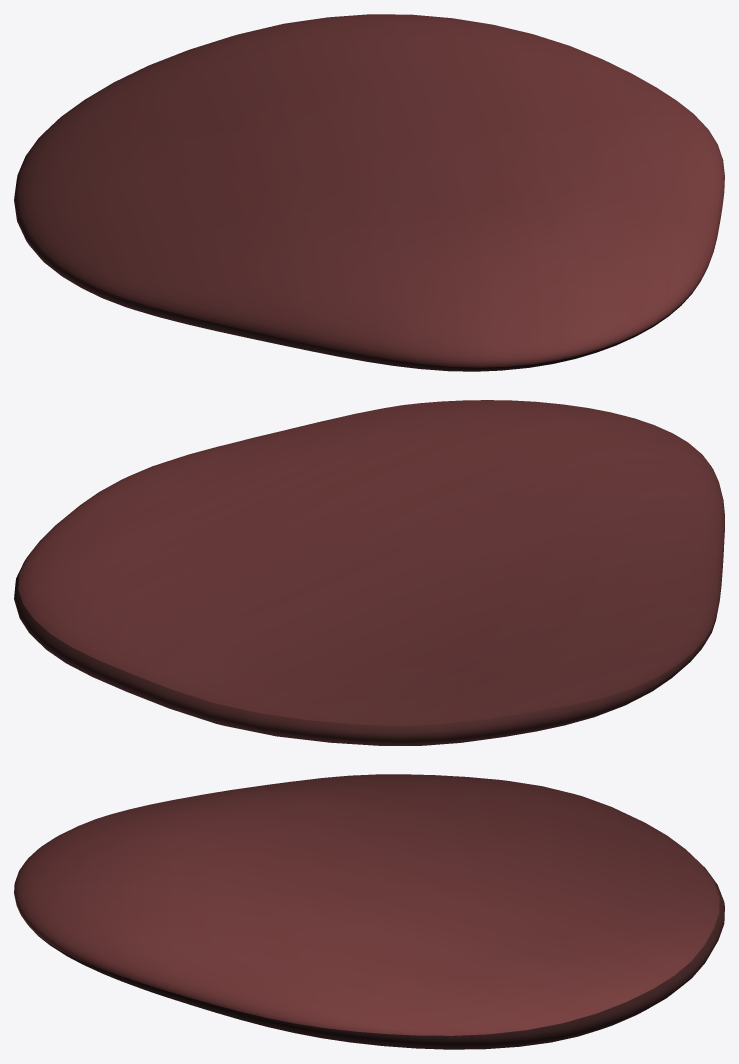
Rendered from common.glb.
3 renders of one model, top to bottom at view 1: azimuth 30°, elevation 25°; view 2: azimuth 150°, elevation 25°; view 3: azimuth 270°, elevation 25°, orthographic. The views are drawn at different scales.
Parts seen in each view (by area): view 1: cf_tongue; view 2: cf_tongue; view 3: cf_tongue.
Part boxes in pixels (x1=…): cf_tongue: x1=14, y1=14, x2=724, y2=371; cf_tongue: x1=14, y1=400, x2=724, y2=745; cf_tongue: x1=14, y1=774, x2=724, y2=1049.
Bounding box in the file's own units: 0.1343 × 0.0275 × 0.152.
1 material, 1 textured.
